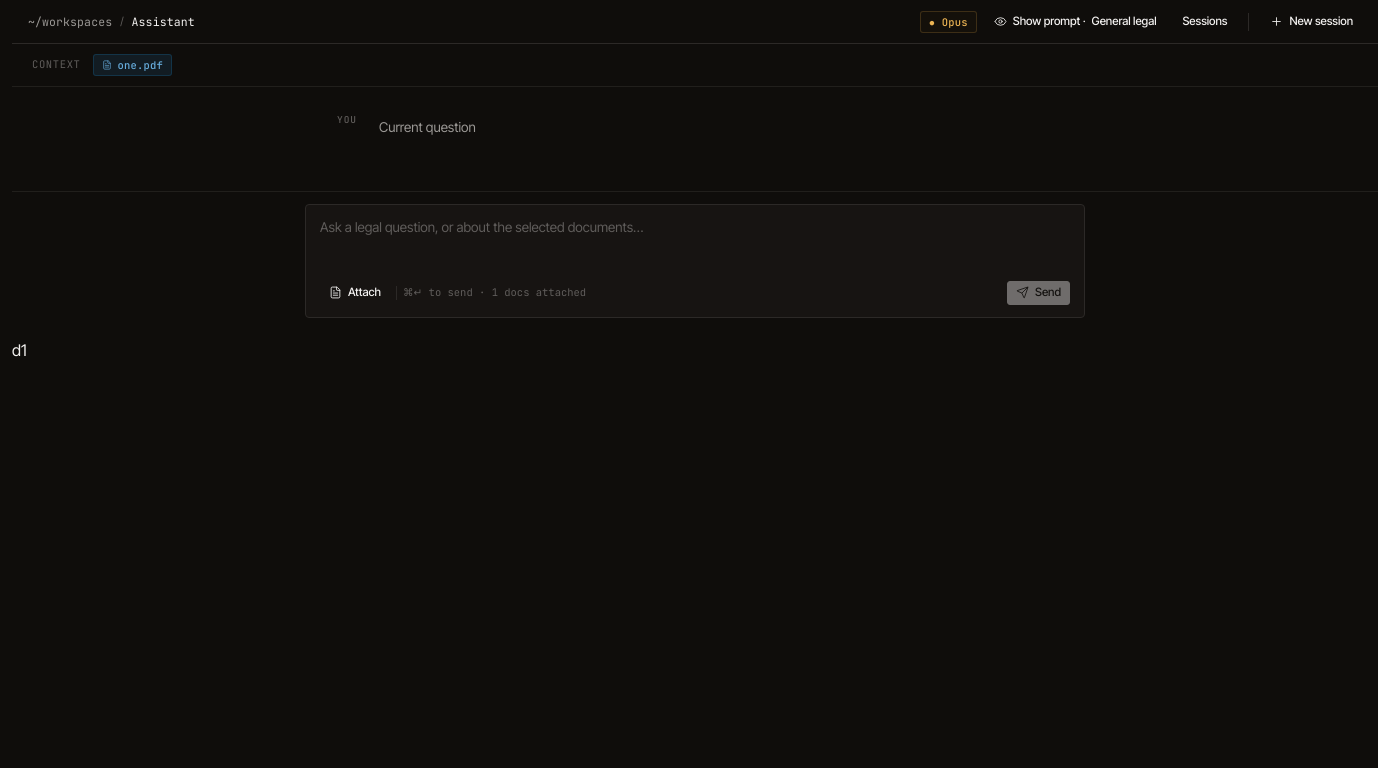
Test: Assistant session management › deletes the active chat into a fresh empty session
Step 1. Click the button "Sessions" → point(1205, 22), box [1174,10,1236,34]
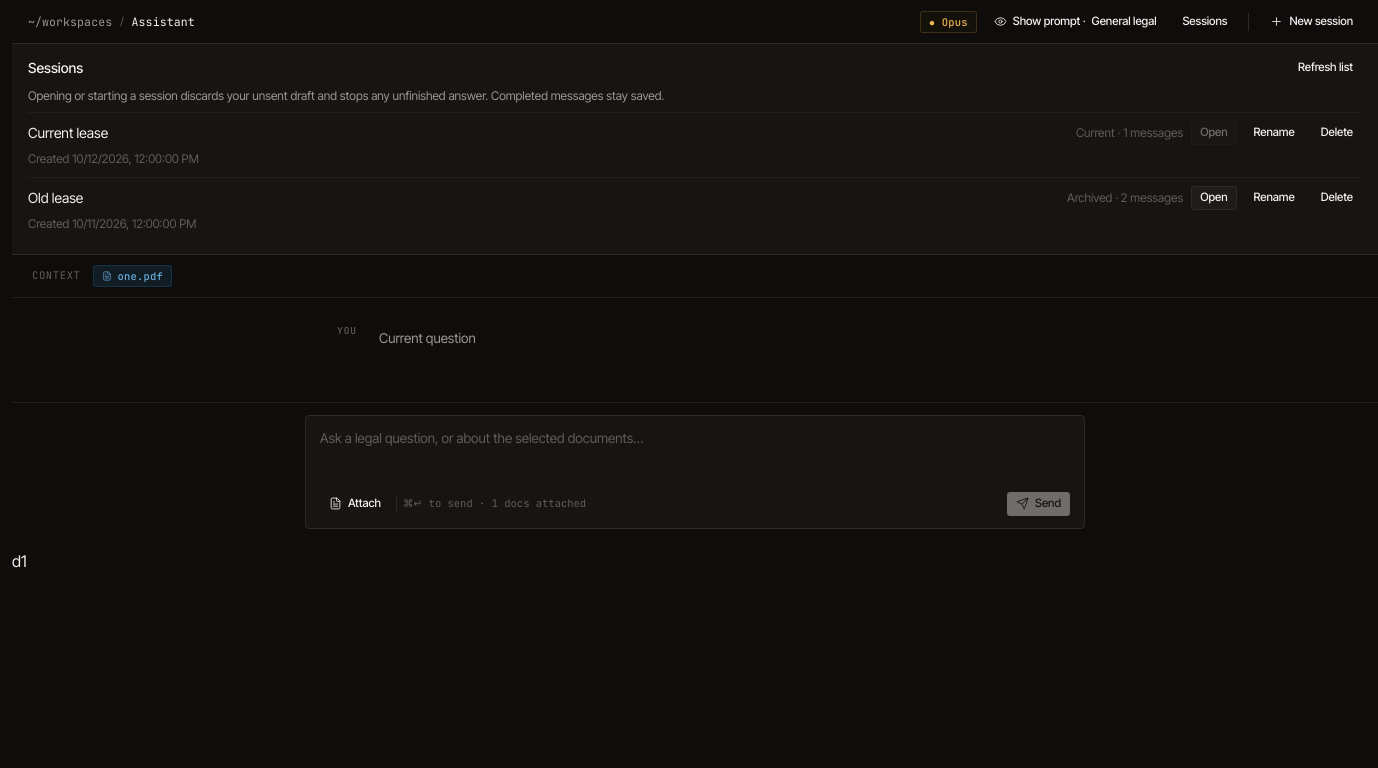
Expected: the button with aria-label "Open Old lease" is shown, [1191,186,1236,210]
Step 2. Click the button with aria-label "Delete Current lease" → point(1337, 133), box [1312,121,1362,145]
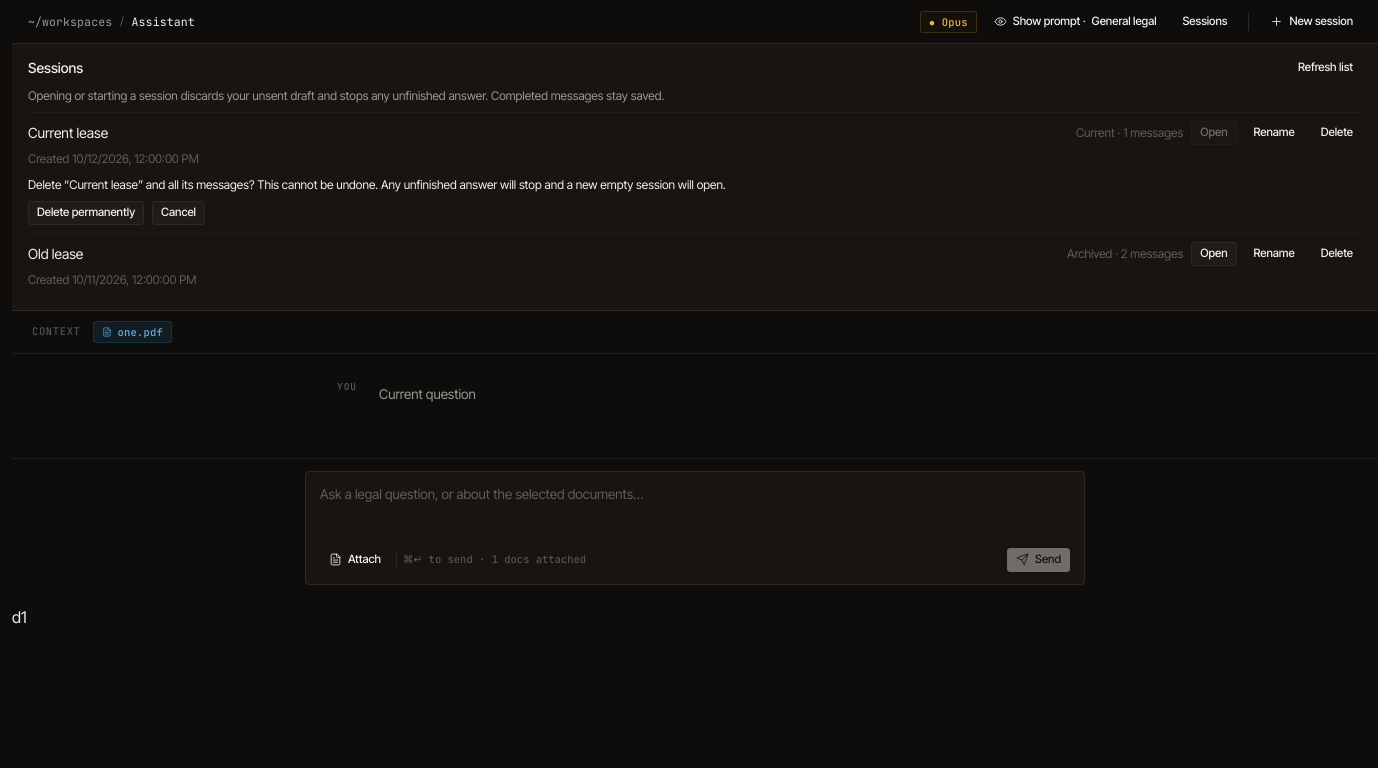
Expected: the text "new empty session will open" is shown, [378,177,726,192]
Step 3. Click the button "Delete permanently" → point(86, 213), box [28,201,144,225]
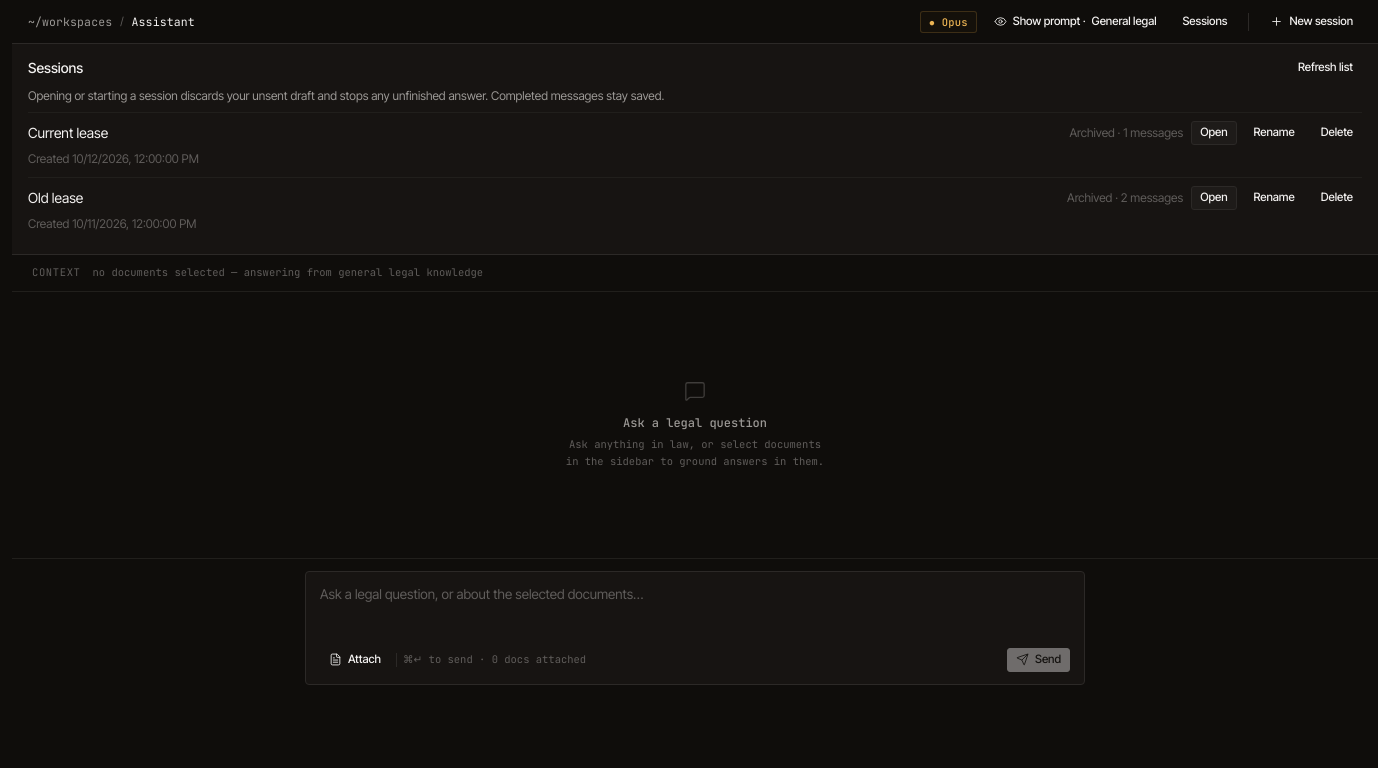
Expected: the text "Ask a legal question" is shown, [623,415,767,431]
Expected: the text "Current question" is gone
